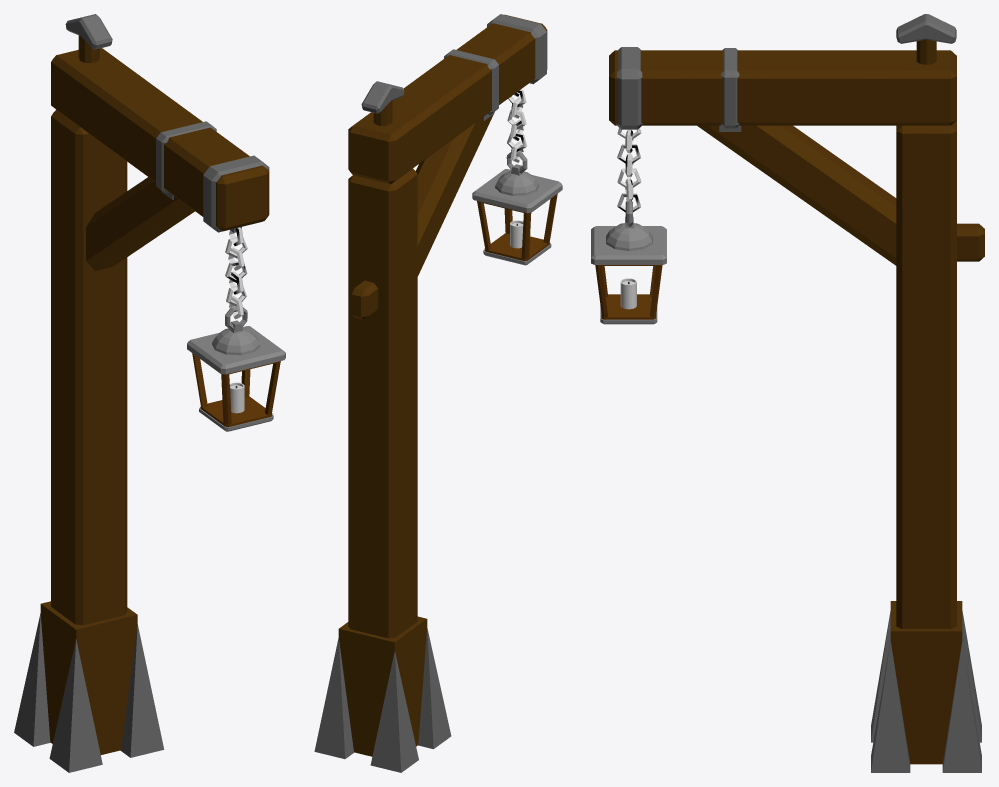
Rendered from pole1.fbx.
The picture shows the model from 3 angles, left to right: view 1: azimuth 30°, elevation 25°; view 2: azimuth 150°, elevation 25°; view 3: azimuth 270°, elevation 25°; orthographic projection. The views are drawn at different scales.
Visible parts, largest first — view 1: pole1; view 2: pole1; view 3: pole1.
Part boxes in pixels (bbox=[...]): pole1: bbox=[14, 14, 285, 772]; pole1: bbox=[314, 14, 562, 772]; pole1: bbox=[591, 14, 984, 772].
Bounding box in the file's own units: 0.829 × 6.02 × 2.94.
1 material, 1 textured.
